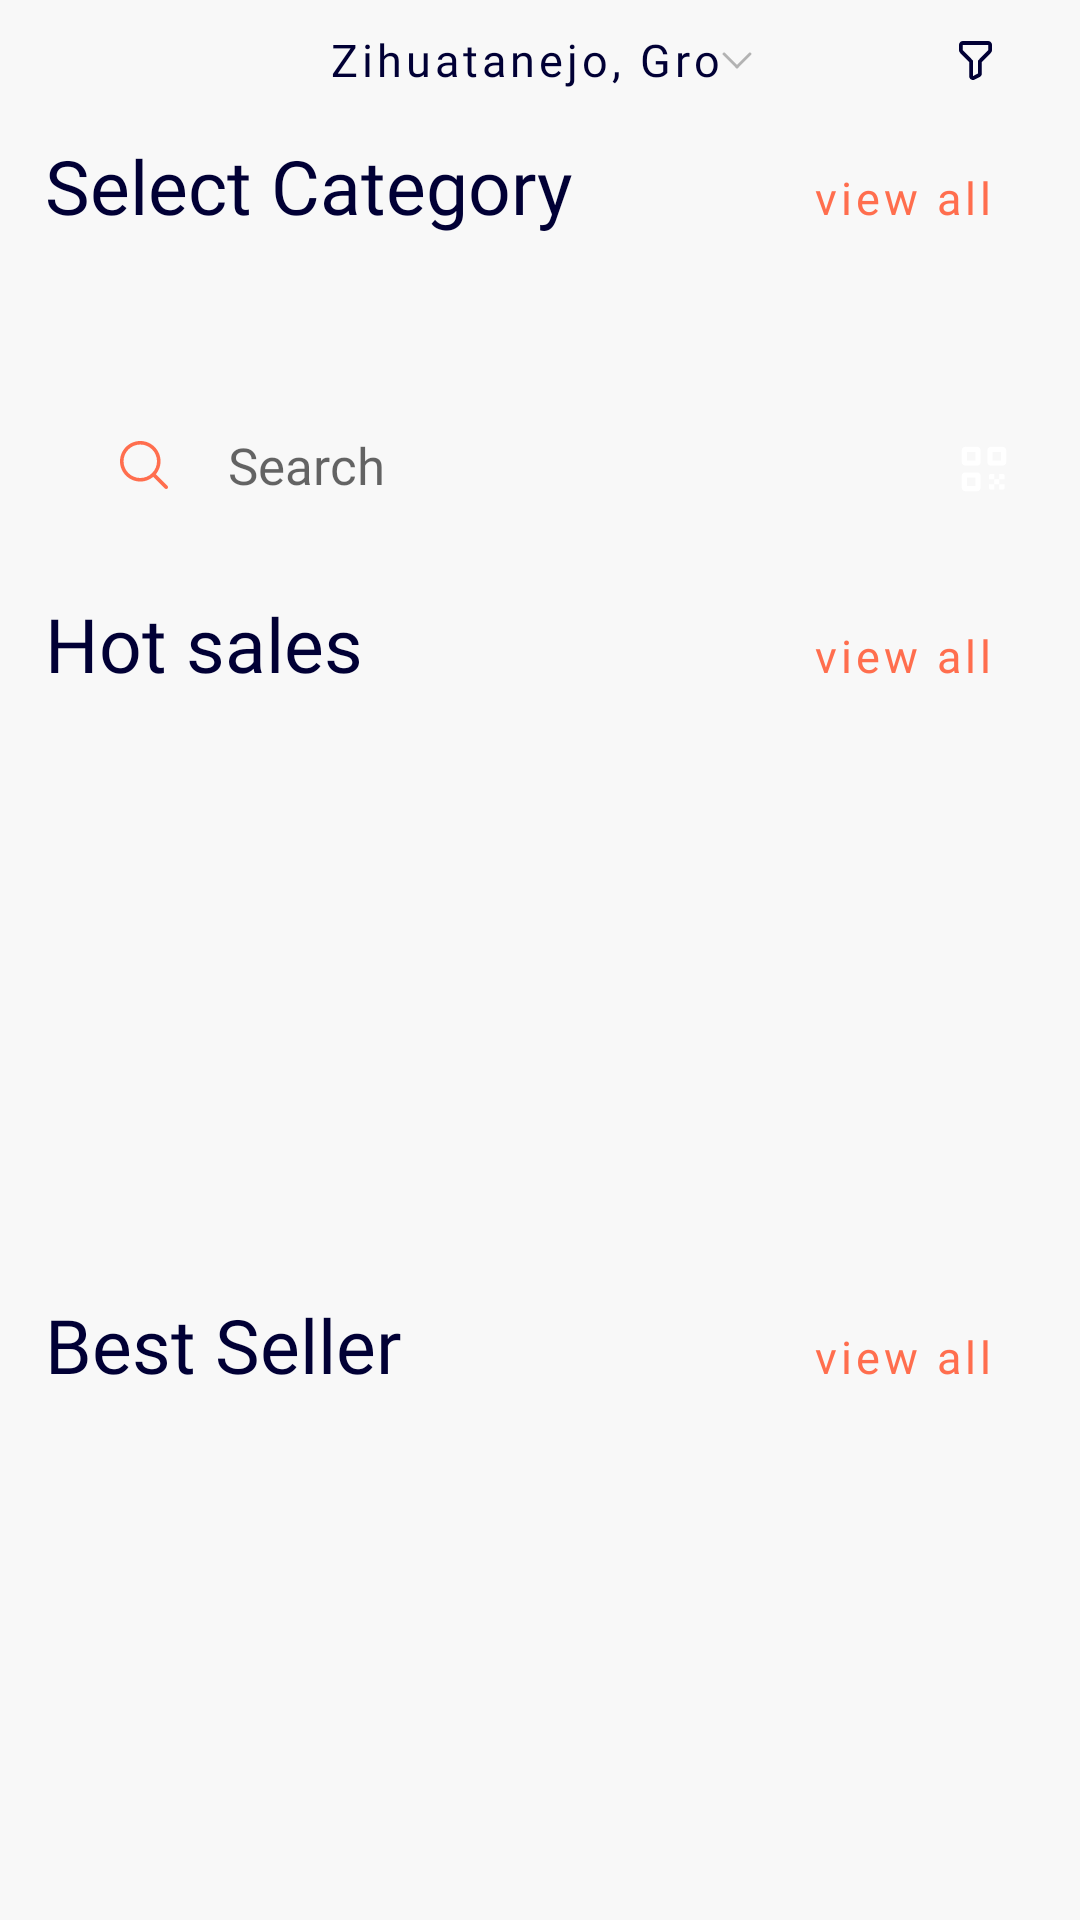

Named icons in this screenshot (1080px×1920px) and their bounding boxes, (x1, y1, x2, y2):
filters: (959, 41, 992, 80)
